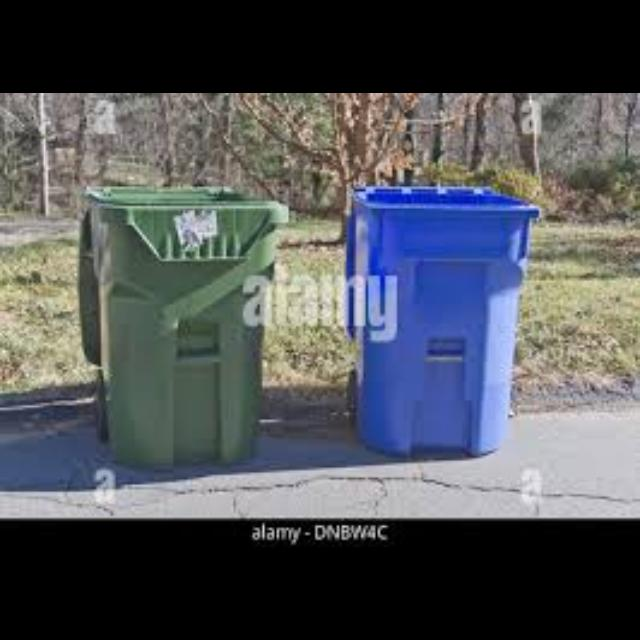Trash_Can_Empty: (78, 184, 292, 469), (343, 184, 542, 459)
